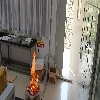fire: (28, 50, 39, 95)
